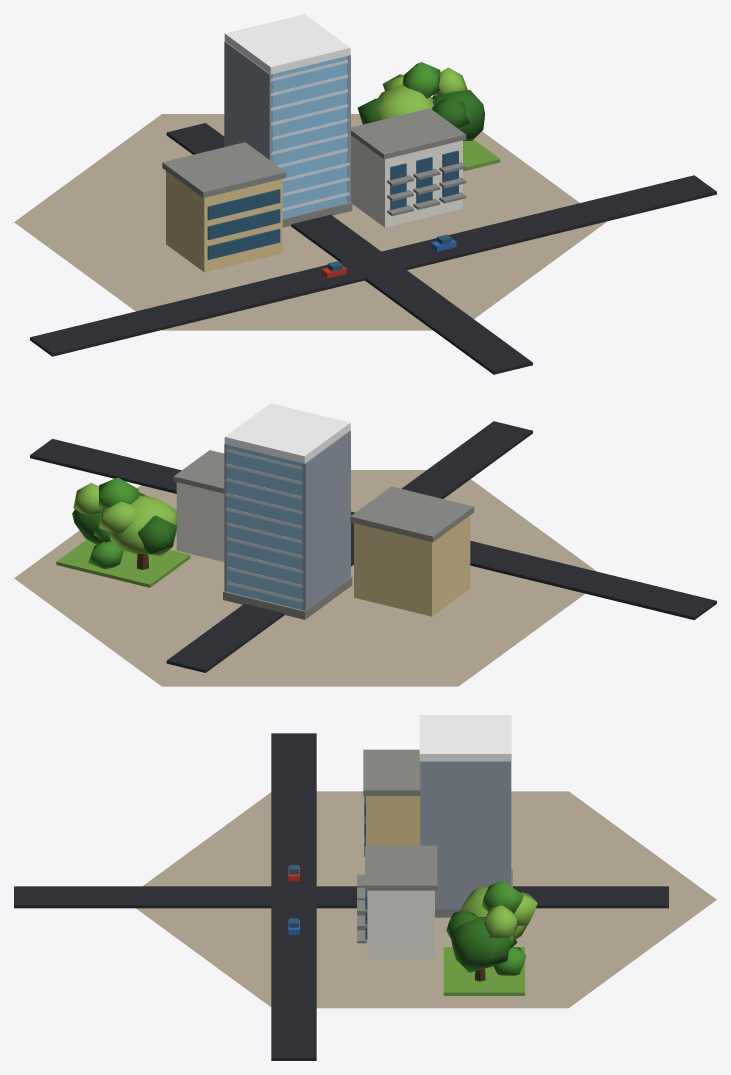
File: city_3_1.fbx
3 renders of one model, top to bottom at view 1: azimuth 30°, elevation 25°; view 2: azimuth 150°, elevation 25°; view 3: azimuth 270°, elevation 25°, orthographic.
Visible parts, largest first — view 1: city_3_1; view 2: city_3_1; view 3: city_3_1.
Boxes of the visible parts, x1,y1,x2,y2 form: city_3_1: (14,14,716,374); city_3_1: (14,403,716,686); city_3_1: (14,715,716,1060).
Bounding box in the file's own units: 272 × 64.56 × 249.
